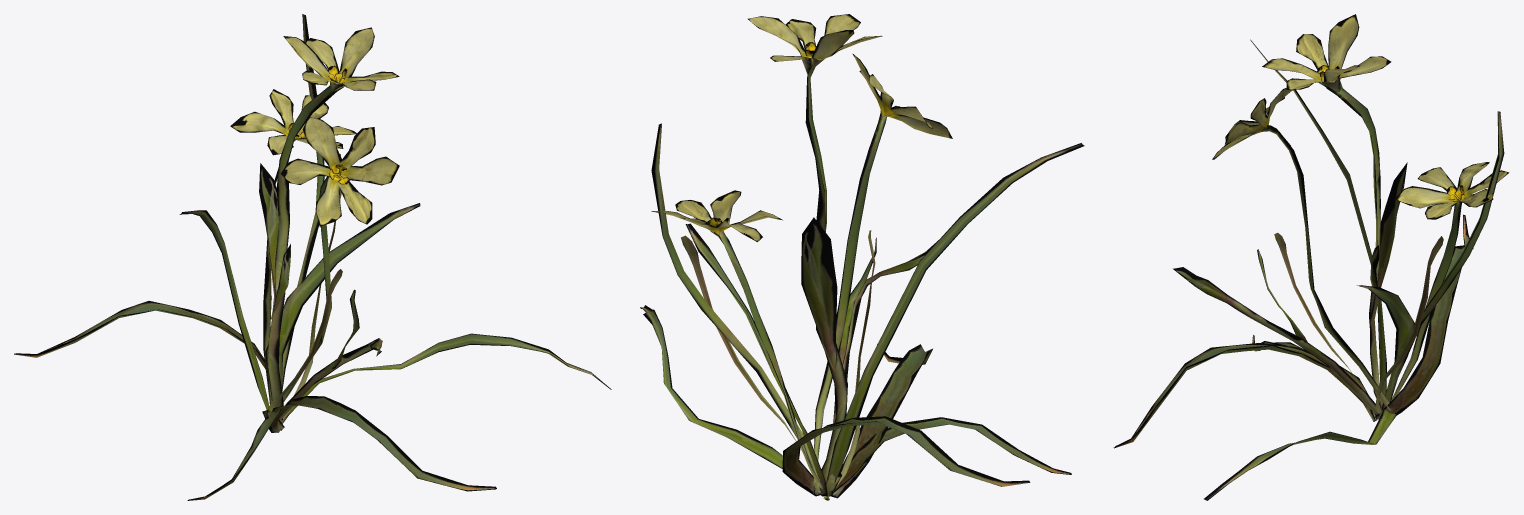
The model's file is flower_empodium.gltf.
The picture shows the model from 3 angles, left to right: view 1: azimuth 30°, elevation 25°; view 2: azimuth 150°, elevation 25°; view 3: azimuth 270°, elevation 25°; orthographic projection. The views are drawn at different scales.
Visible parts, largest first — view 1: flower_empodium; view 2: flower_empodium; view 3: flower_empodium.
Part boxes in pixels (x1,y1,x2,y2): flower_empodium: (14, 14, 611, 500); flower_empodium: (640, 14, 1084, 500); flower_empodium: (1113, 14, 1509, 500).
Bounding box in the file's own units: 0.2169 × 0.1786 × 0.1579.
1 material, 1 textured.
